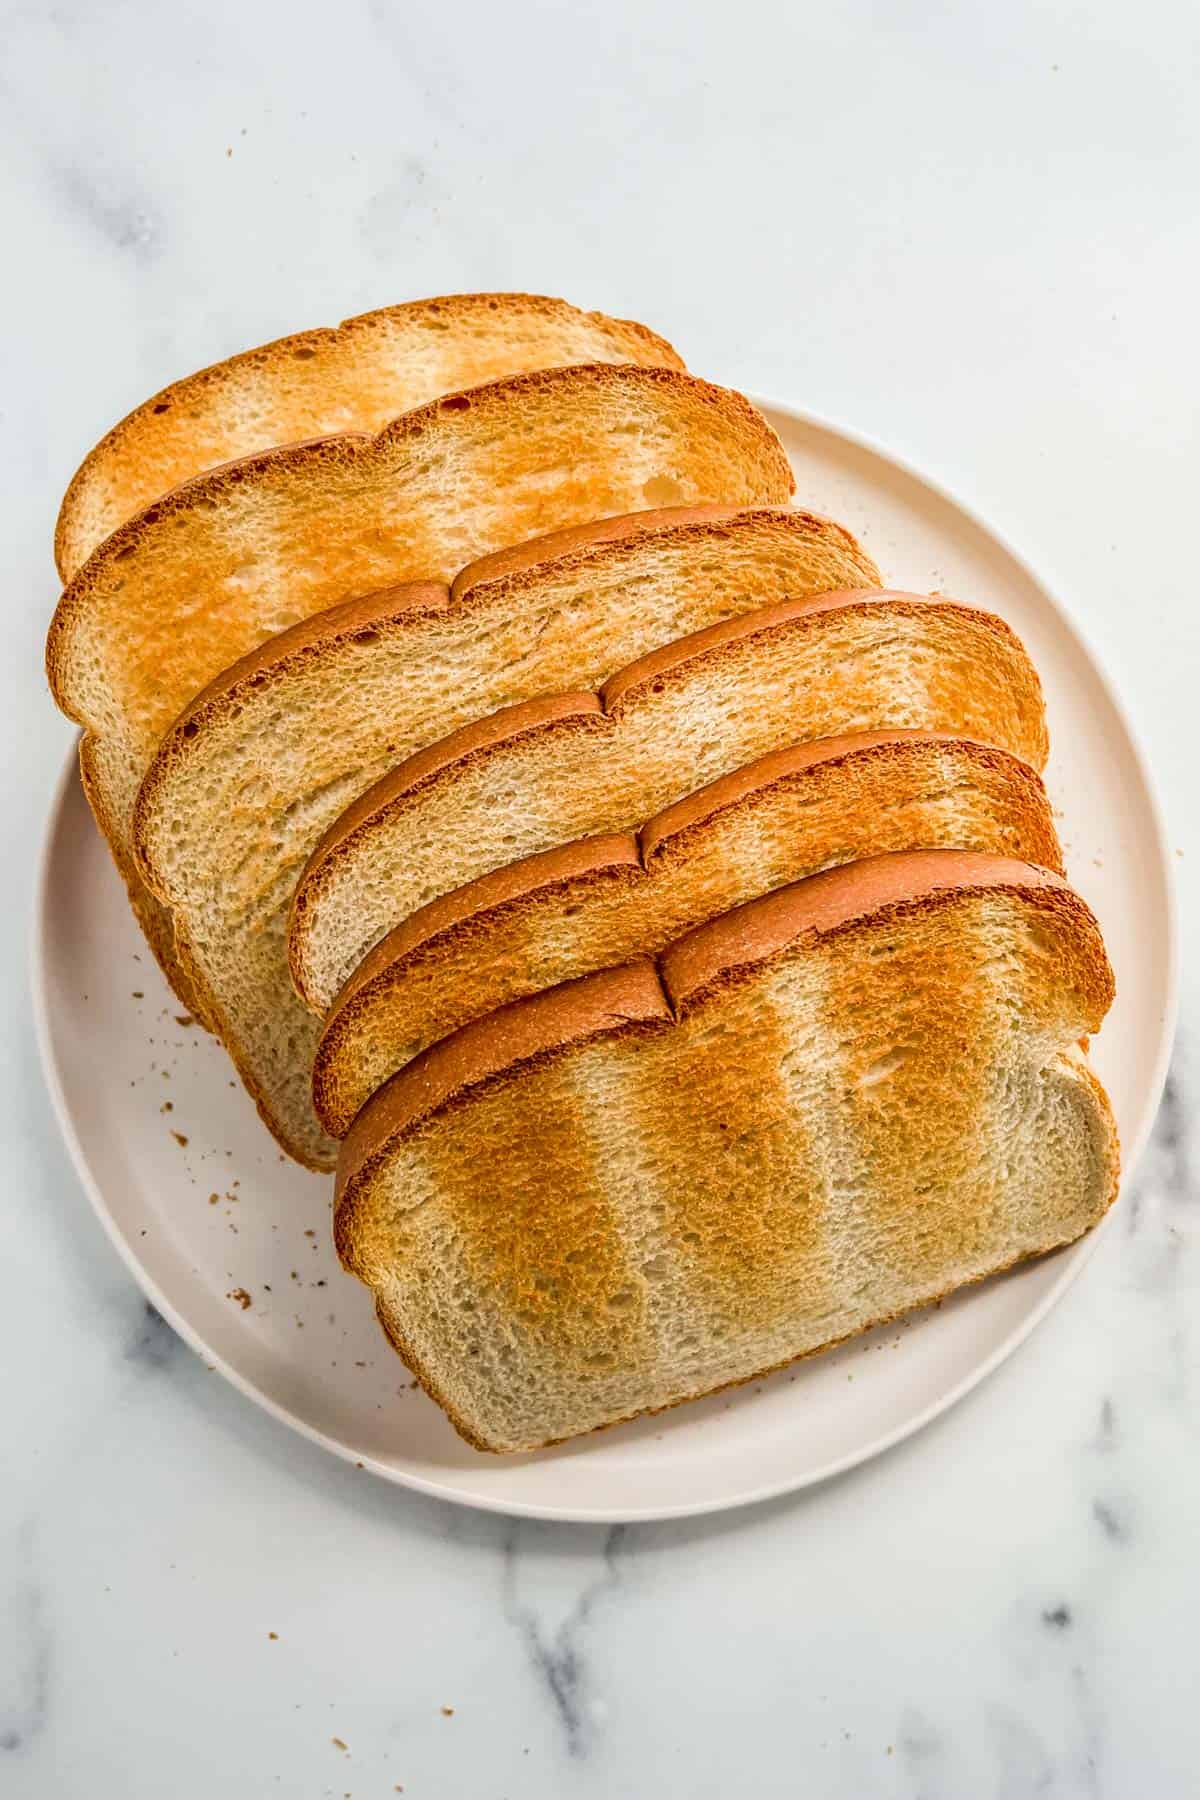Toast: (46, 304, 1104, 1471)
